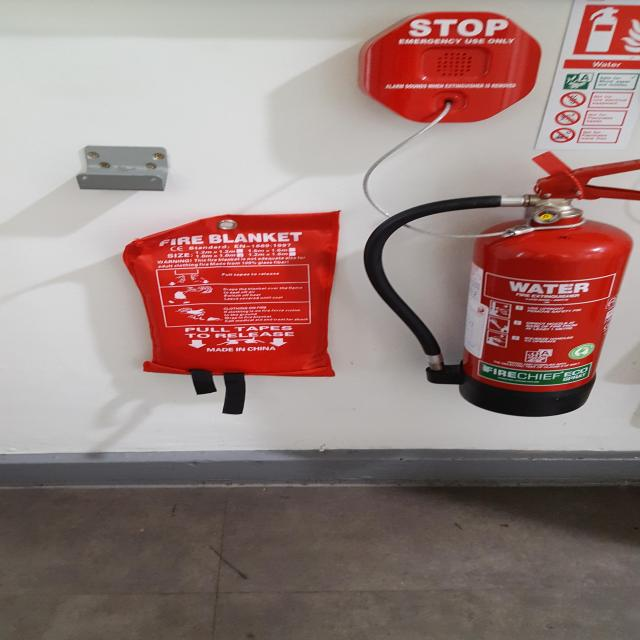fire_extinguisher: (357, 148, 640, 425)
